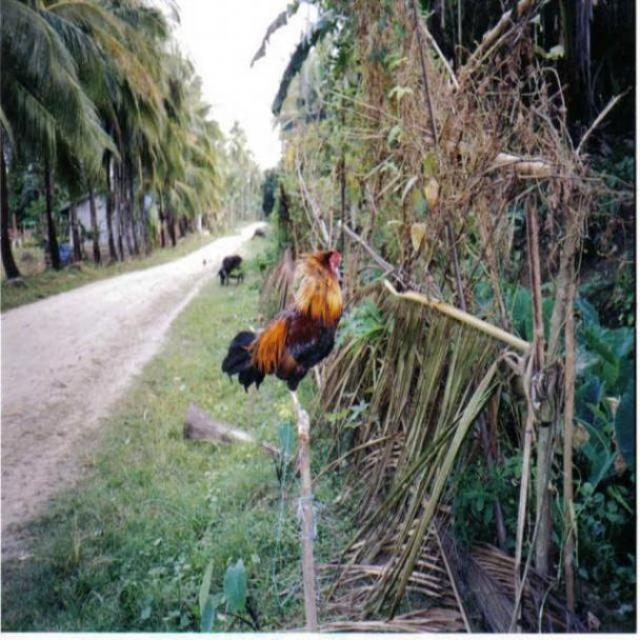Chicken: (219, 232, 349, 406)
